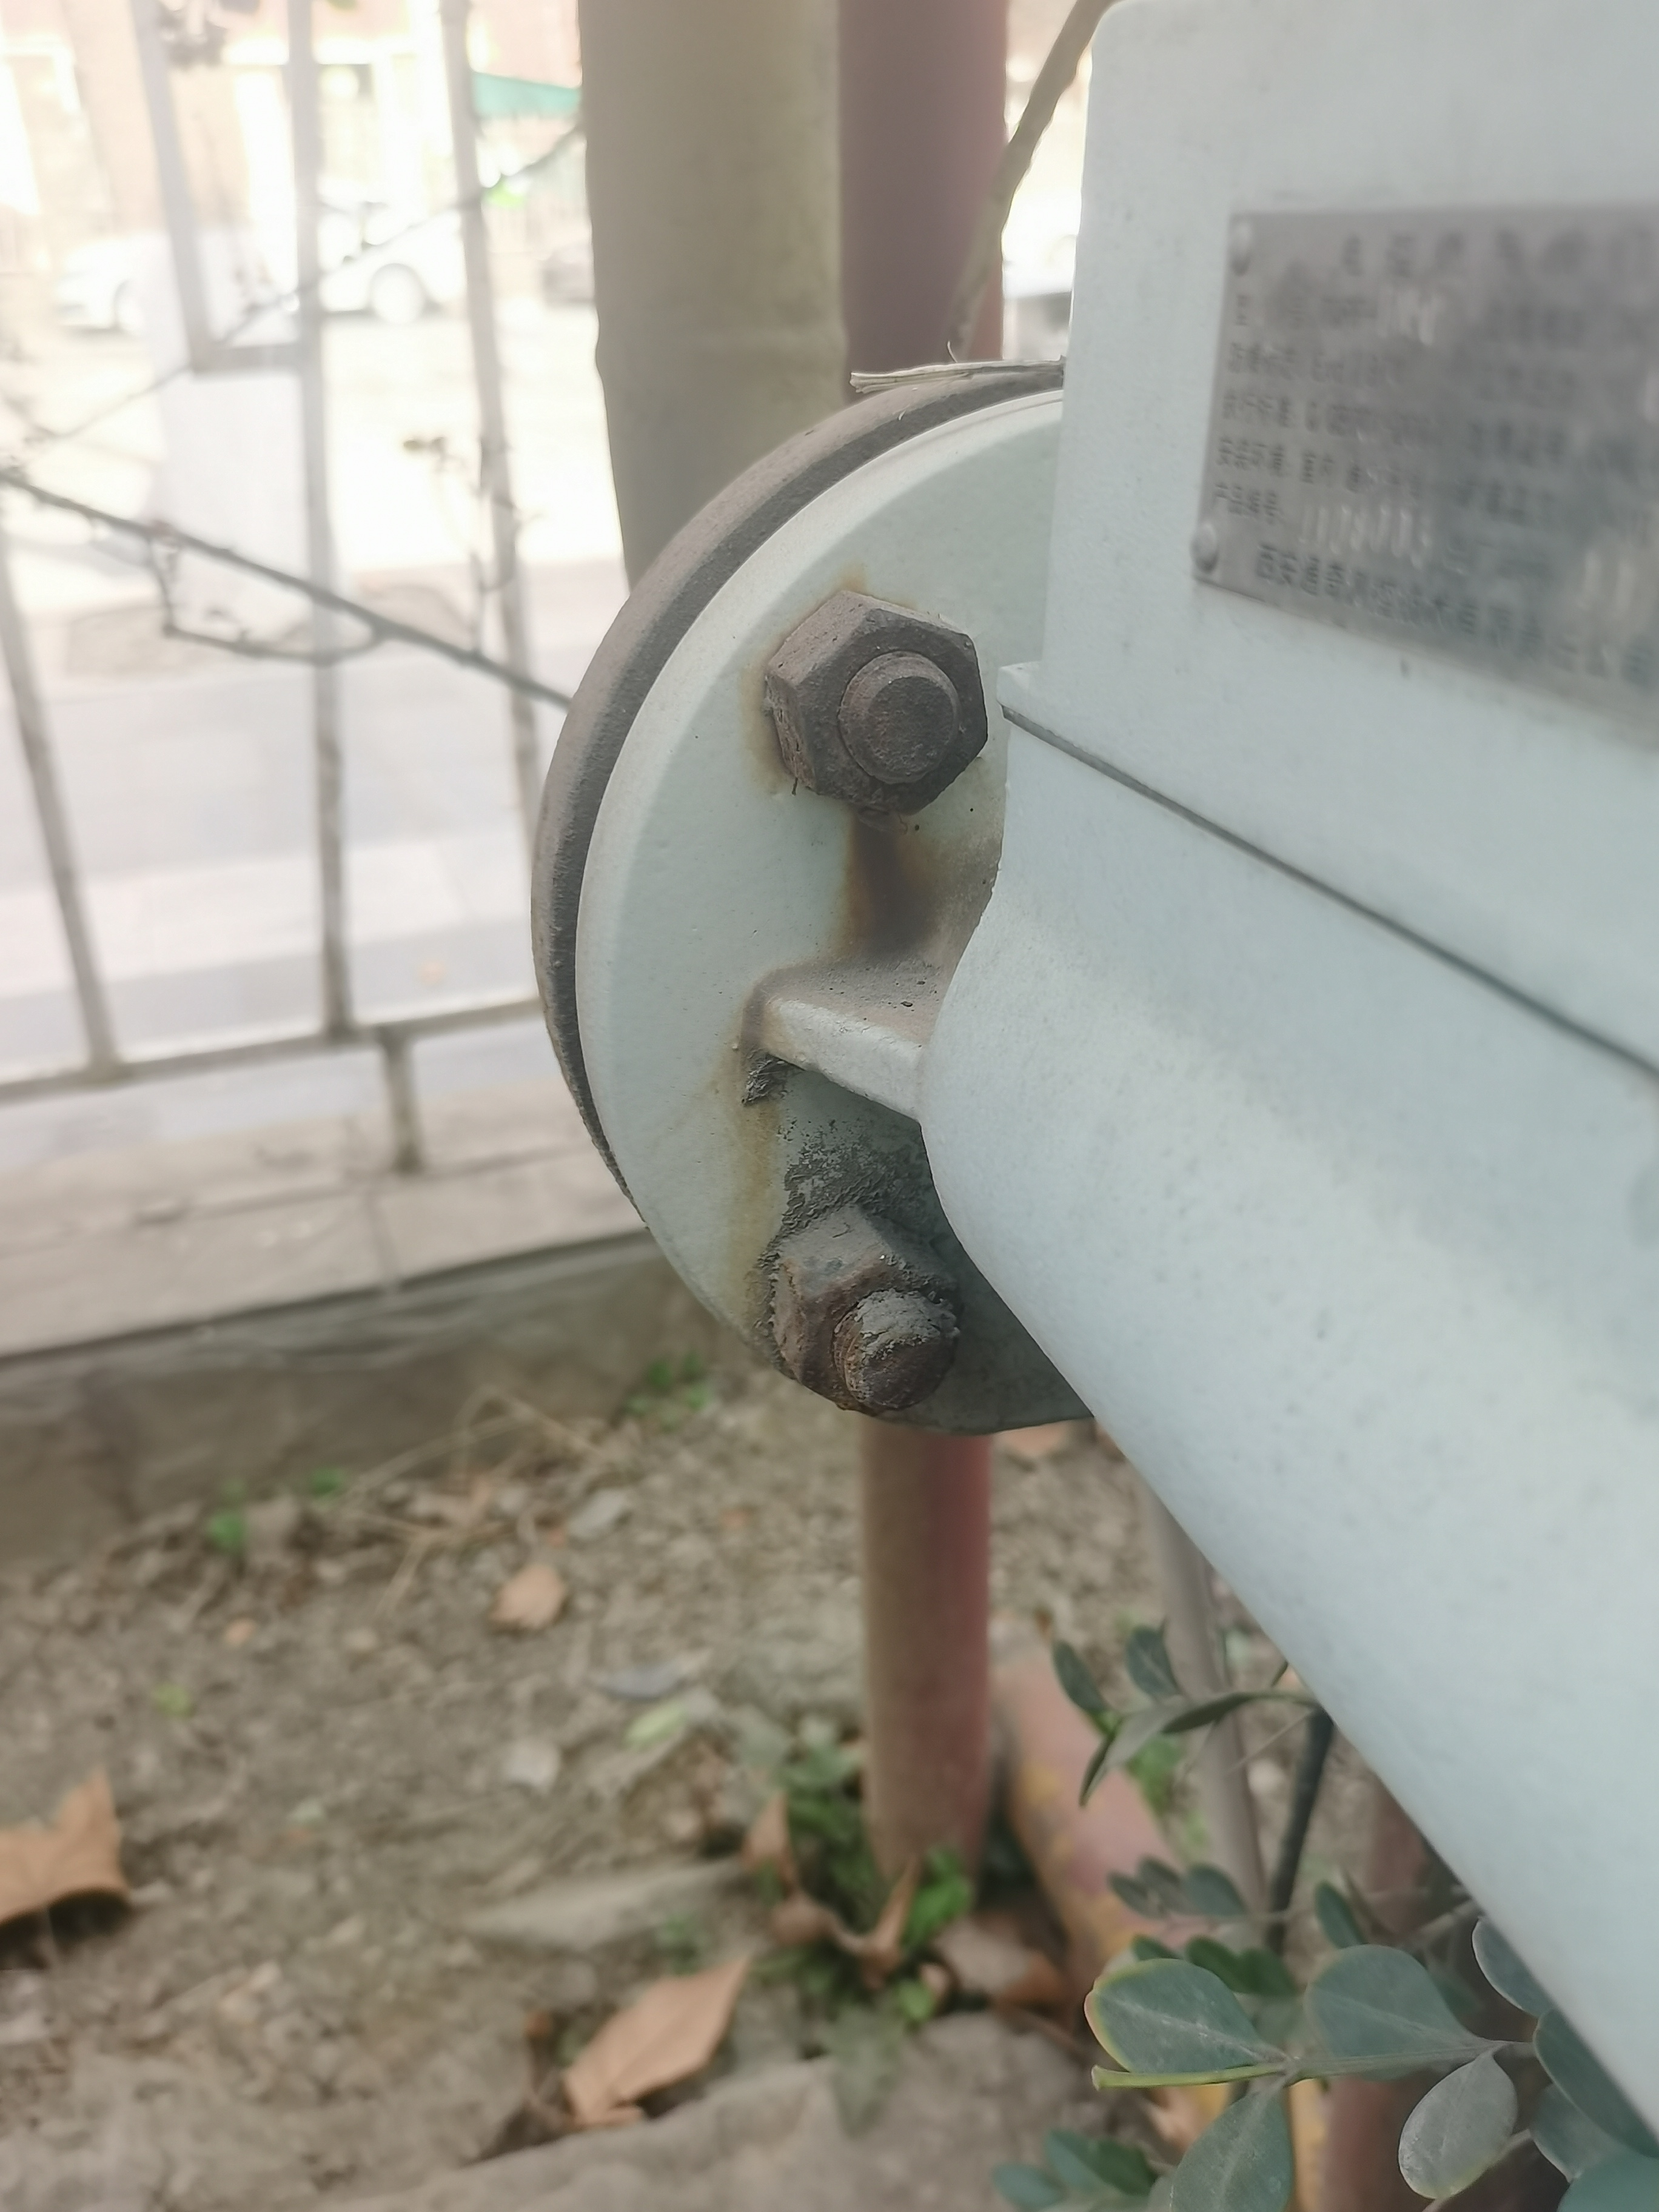bolt_b: (762, 582, 995, 824), (769, 1200, 967, 1421)
